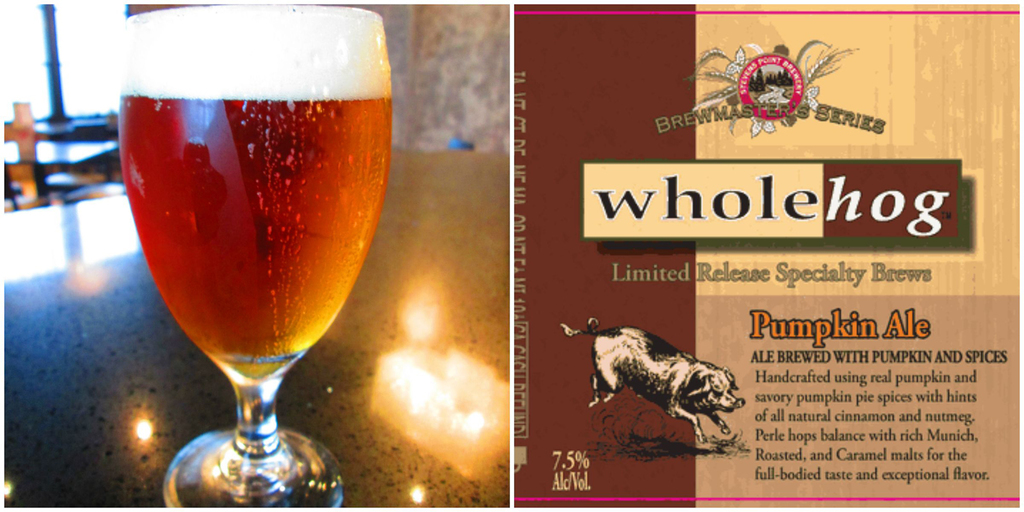Beer: (115, 7, 390, 375)
